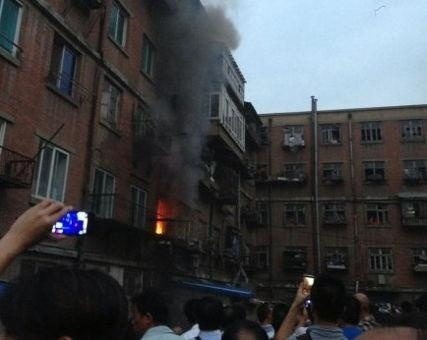fire: (152, 201, 169, 233)
